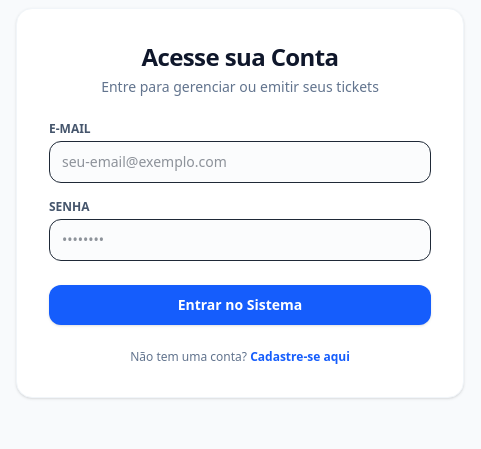
Login — página › exibe mensagem de erro quando login falha
Type "x@x.com" into the field with placeholder "seu-email@exemplo.com" at (240,162), box left=49, top=140, right=431, bottom=182
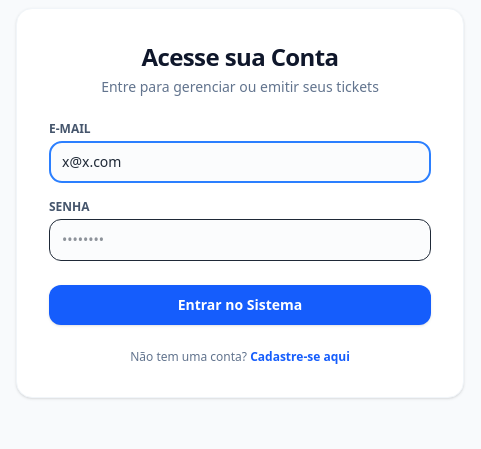
Type "errada" into the password field with placeholder "••••••••" at (240,240), box left=49, top=218, right=431, bottom=260
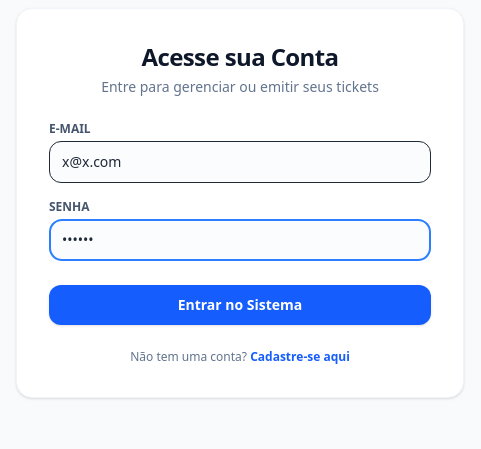
Click the button "Entrar no Sistema" at (240,304), box left=49, top=284, right=431, bottom=324
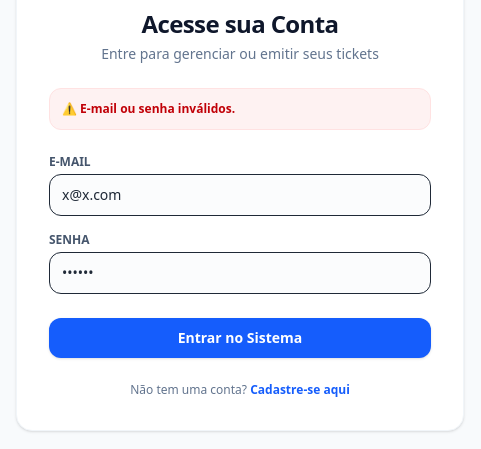
Expected: the text "⚠️ E-mail ou senha inválidos." is shown, left=49, top=88, right=431, bottom=130
